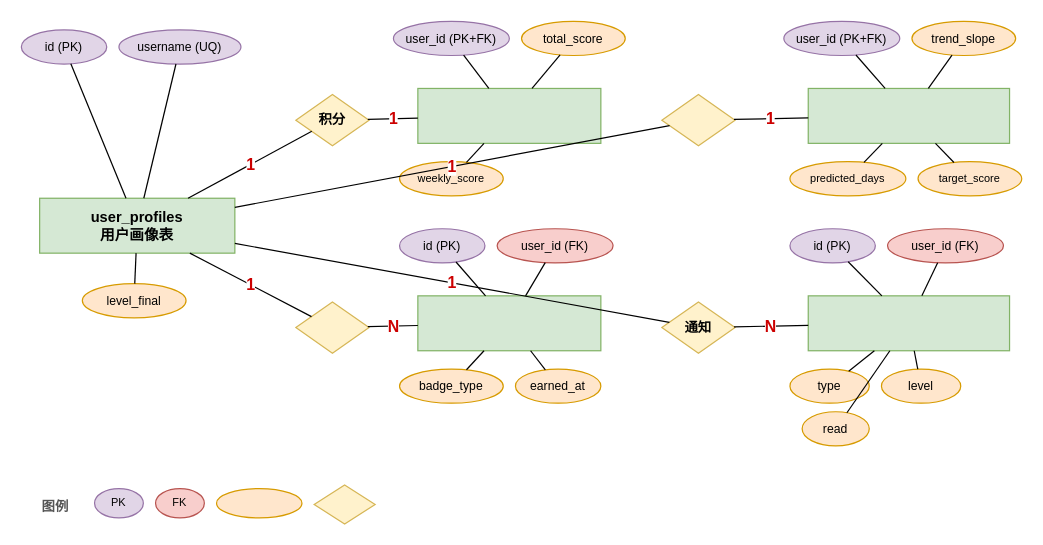
Some shapes in this 1043 by 545 pixel diagram are drawn without their labels. Here are the shapes that lost their labels. From the top down, the centre of each, then its label:
the point at 509,115: user_scores 用户积分
the point at 698,119: 预测
the point at 908,115: learning_predictions 学习预测
the point at 332,327: 勋章
the point at 509,323: user_badges 用户勋章
the point at 908,323: notices 通知消息
the point at 258,502: 普通属性
the point at 344,504: 关系
